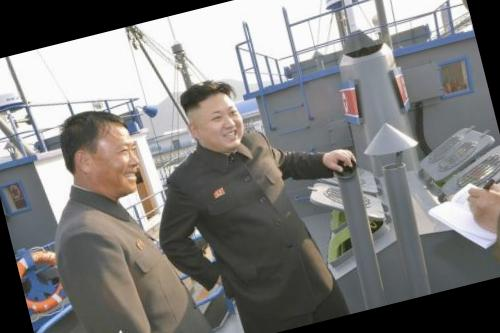no_helmet: (48, 96, 147, 208), (172, 72, 250, 160)
